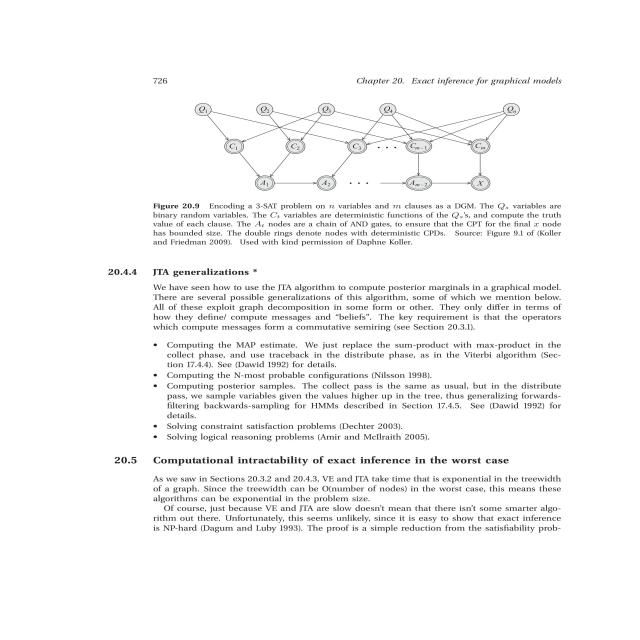diagram: (137, 93, 581, 251)
